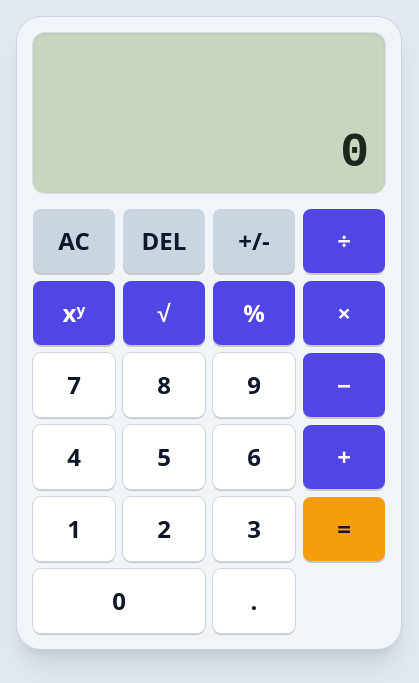
Test case: Calculator › keeps a single decimal point while entering a multi-digit number
Click the button "1": [74, 529] box [33,497,115,561]
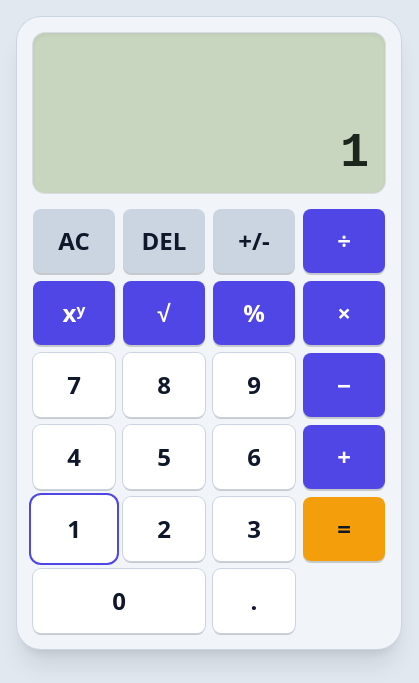
Click the button named "Decimal point": [254, 601] box [213,569,295,633]
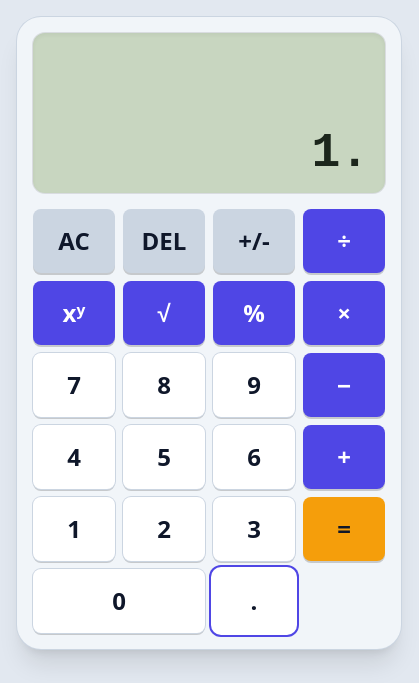
Click the button "2": [164, 529] box [123,497,205,561]
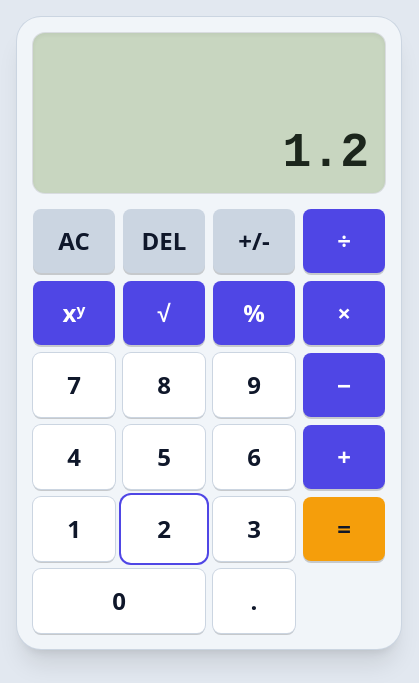
Click the button named "Decimal point": [254, 601] box [213,569,295,633]
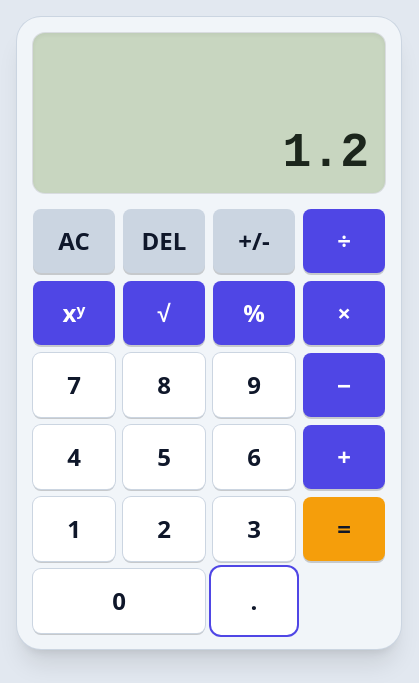
Click the button "3": [254, 529] box [213,497,295,561]
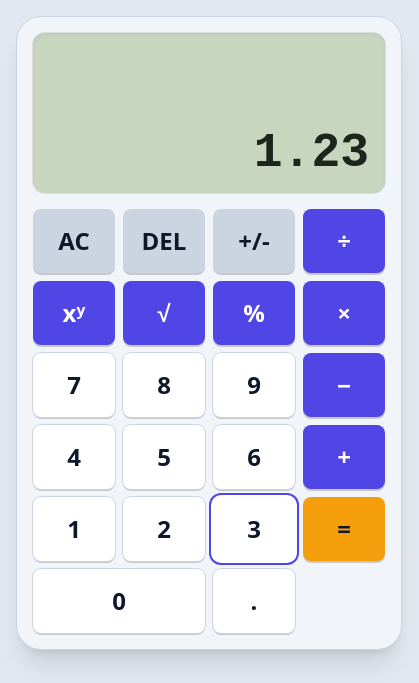
Check: the text "1.23" is shown, box [254,126,369,180]
